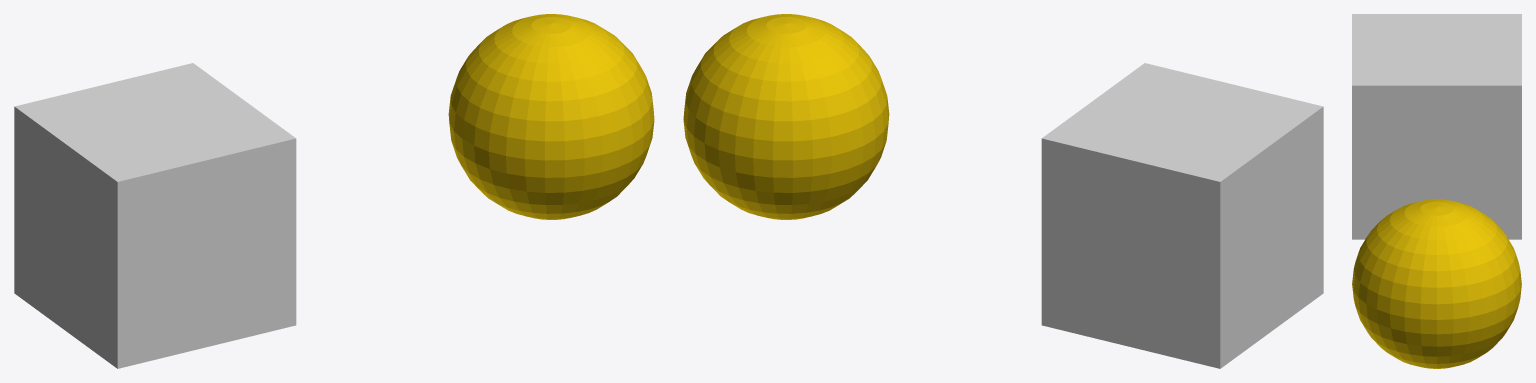
Rendered from sample.glb.
3 views of the same model, side by side, from view 1: azimuth 30°, elevation 25°; view 2: azimuth 150°, elevation 25°; view 3: azimuth 270°, elevation 25° (orthographic). The views are drawn at different scales.
Visible parts, largest first — view 1: Cube, Sphere; view 2: Cube, Sphere; view 3: Cube, Sphere.
Part boxes in pixels (x1=…): Cube: x1=14, y1=63, x2=296, y2=368; Sphere: x1=448, y1=14, x2=654, y2=219; Cube: x1=1041, y1=63, x2=1323, y2=368; Sphere: x1=683, y1=14, x2=889, y2=219; Cube: x1=1352, y1=14, x2=1521, y2=239; Sphere: x1=1352, y1=199, x2=1521, y2=368.
Size of the model in its own units: 6.44 by 2.02 by 2.
